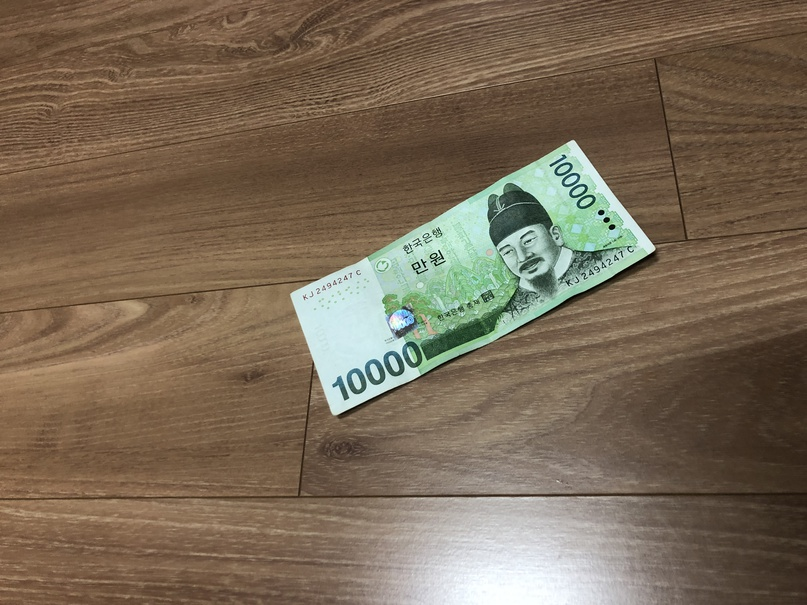10000won: (288, 140, 656, 415)
